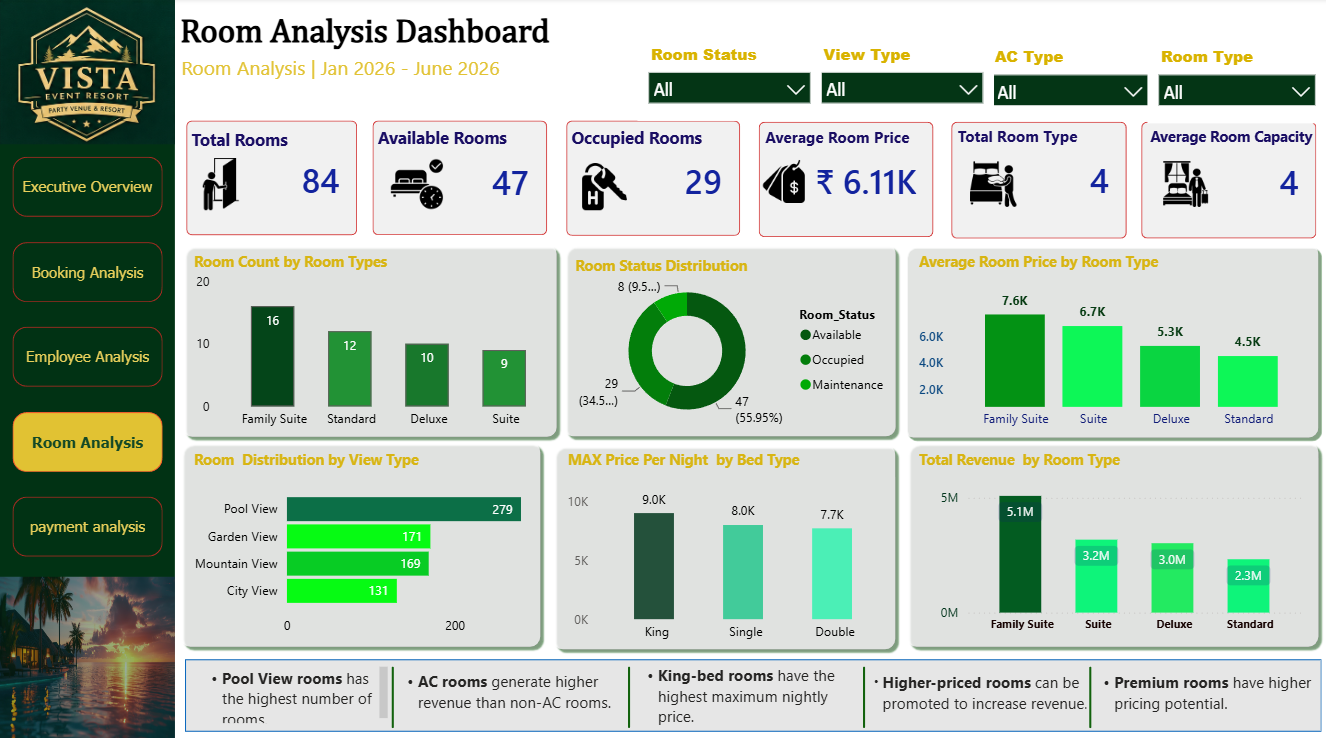

Layout of this report page (visuals, bound fields, positions):
{"tool":"powerbi","page":{"name":"Room Analysis","canvas":[1280,720],"ordinal":3},"visuals":[{"type":"shape","box":[178.6,638.6,1097.1,70],"z":0},{"type":"shape","box":[1101.8,119.1,169.1,112.7],"z":1000},{"type":"shape","box":[0,0,169,720],"z":2000},{"type":"textbox","box":[168.6,11.4,498.6,60],"z":3000},{"type":"shape","box":[169.5,231.4,373.3,198.1],"z":4000},{"type":"shape","box":[180,118.3,165,110.8],"z":5000},{"type":"shape","box":[359.3,118.6,168.6,110.7],"z":6000},{"type":"shape","box":[732.9,119.3,168.6,111.4],"z":7000},{"type":"shape","box":[546.4,118.6,167.9,111.4],"z":8000},{"type":"shape","box":[918.6,119.3,169.3,112.9],"z":9000},{"type":"image","box":[0,1.2,168.8,140],"z":10000},{"type":"image","box":[0,558.6,168.6,161.4],"z":11000},{"type":"textbox","box":[170,49.1,398.2,41.8],"z":12000},{"type":"shape","box":[537.5,231.2,332.5,197.5],"z":13000},{"type":"shape","box":[867.5,232.5,410,196.2],"z":14000},{"type":"shape","box":[167.8,422.2,360,210],"z":15000},{"type":"shape","box":[527.7,424.6,343.1,210],"z":16000},{"type":"shape","box":[868.6,422.9,410,210],"z":17000},{"type":"cardVisual","fields":{"Data":["Count(Room_Dataset.Room_ID)"]},"box":[178.6,118.2,166.5,112.2],"z":18000},{"type":"cardVisual","fields":{"Data":["Room_Dataset.Available Room"]},"box":[358.3,120.6,169.2,110.8],"z":19000},{"type":"cardVisual","fields":{"Data":["Room_Dataset.occupied room"]},"box":[546.2,119.2,167.7,110],"z":20000},{"type":"cardVisual","fields":{"Data":["Avg(Room_Dataset.Price_Per_Night)"]},"box":[733.1,119.2,168.5,110.8],"z":21000},{"type":"cardVisual","fields":{"Data":["Avg(Room_Dataset.Capacity)"]},"box":[1100,119.2,170.8,113.1],"z":22000},{"type":"cardVisual","fields":{"Data":["Count(Room_Dataset.Room_Type)"]},"box":[918.5,120.8,169.2,108.5],"z":23000},{"type":"lineClusteredColumnComboChart","fields":{"Category":["Room_Dataset.Room_Type"],"Y":["Sum(Payment_Dataset.Total Amount)"]},"box":[902,446,361,175],"z":24000},{"type":"barChart","fields":{"Category":["Room_Dataset.View_Type"],"Y":["Booking_Dataset_Fact_Table.booking count"]},"box":[176.7,458.9,358.9,165.6],"z":25000},{"type":"clusteredColumnChart","fields":{"Category":["Room_Dataset.Bed_Type"],"Y":["Max(Room_Dataset.Price_Per_Night)"]},"box":[542.3,459.2,324.6,170],"z":26000},{"type":"columnChart","fields":{"Category":["Room_Dataset.Room_Type"],"Y":["Room_Dataset.Available Room"]},"box":[184.4,259.4,361.7,165],"z":27000},{"type":"donutChart","fields":{"Category":["Room_Dataset.Room_Status"],"Y":["Count(Room_Dataset.Room_ID)"]},"box":[550.1,258.2,317.3,165.3],"z":28000},{"type":"slicer","fields":{"Values":["Room_Dataset.AC_Type"]},"box":[947.5,41.2,171.2,70],"z":29000},{"type":"slicer","fields":{"Values":["Room_Dataset.Room_Type"]},"box":[1107.5,41.2,172.5,80],"z":30000},{"type":"slicer","fields":{"Values":["Room_Dataset.View_Type"]},"box":[781.2,38.8,177.5,80],"z":31000},{"type":"slicer","fields":{"Values":["Room_Dataset.Room_Status"]},"box":[615,38.8,177.5,80],"z":32000},{"type":"textbox","box":[179.8,120.6,153.2,41],"z":33000},{"type":"textbox","box":[360,118.5,153.1,40.8],"z":34000},{"type":"textbox","box":[546.2,118.5,153.1,40.8],"z":35000},{"type":"textbox","box":[733.1,119.2,168.5,40.8],"z":36000},{"type":"textbox","box":[1105.6,120,173.3,41.1],"z":37000},{"type":"textbox","box":[919.2,118.5,168.5,40.8],"z":38000},{"type":"textbox","box":[182.5,240,235.6,30],"z":39000},{"type":"textbox","box":[550,243.1,218.8,30],"z":40000},{"type":"textbox","box":[882.5,240,261.2,30],"z":41000},{"type":"textbox","box":[182.2,431.1,277.8,30],"z":42000},{"type":"textbox","box":[543.3,431.1,277.8,30],"z":43000},{"type":"textbox","box":[882.2,431.1,277.8,30],"z":44000},{"type":"columnChart","fields":{"Category":["Room_Dataset.Room_Type"],"Y":["Avg(Room_Dataset.Price_Per_Night)"]},"box":[882.5,270,388.8,148.8],"z":45000},{"type":"shape","box":[359.2,645,39.2,59.2],"z":46000},{"type":"shape","box":[587.5,645,39.2,59.2],"z":47000},{"type":"shape","box":[814.2,645,39.2,59.2],"z":48000},{"type":"shape","box":[1032.5,645,39.2,59.2],"z":49000},{"type":"textbox","box":[186.7,641.1,192.2,64.4],"z":50000},{"type":"textbox","box":[376.2,643.8,231.2,63.8],"z":51000},{"type":"textbox","box":[608,638.2,230.4,70],"z":52000},{"type":"textbox","box":[828.8,645,231.2,63.8],"z":53000},{"type":"textbox","box":[1048.8,645,222.5,63.8],"z":54000},{"type":"image","box":[558.6,159.3,49.5,45.8],"z":55000},{"type":"image","box":[376.4,154.4,51.9,50.7],"z":56000},{"type":"image","box":[187,154.4,51.9,50.7],"z":57000},{"type":"image","box":[732.3,154.4,49.5,45.8],"z":58000},{"type":"image","box":[933.8,156.8,49.5,45.8],"z":59000},{"type":"image","box":[1119.6,156.8,49.5,45.8],"z":60000},{"type":"pageNavigator","box":[12.1,153.2,145.7,387.1],"z":61000}]}

Visuals, with their boxes in screenshot pixels (x1, y1, x2, y2), scaled from the page's 1280x720 canvas onto the 1326x738 screenshot:
shape: <region>185, 655, 1322, 726</region>
shape: <region>1141, 122, 1317, 238</region>
shape: <region>0, 0, 175, 737</region>
textbox: <region>175, 12, 691, 73</region>
shape: <region>176, 237, 562, 440</region>
shape: <region>186, 121, 357, 235</region>
shape: <region>372, 122, 547, 235</region>
shape: <region>759, 122, 934, 236</region>
shape: <region>566, 122, 740, 236</region>
shape: <region>952, 122, 1127, 238</region>
image: <region>0, 1, 175, 145</region>
image: <region>0, 573, 175, 737</region>
textbox: <region>176, 50, 589, 93</region>
shape: <region>557, 237, 901, 439</region>
shape: <region>899, 238, 1323, 439</region>
shape: <region>174, 433, 547, 648</region>
shape: <region>547, 435, 902, 650</region>
shape: <region>900, 433, 1325, 649</region>
cardVisual - Count(Room_Dataset.Room_ID): <region>185, 121, 358, 236</region>
cardVisual - Room_Dataset.Available Room: <region>371, 124, 546, 237</region>
cardVisual - Room_Dataset.occupied room: <region>566, 122, 740, 235</region>
cardVisual - Avg(Room_Dataset.Price_Per_Night): <region>759, 122, 934, 236</region>
cardVisual - Avg(Room_Dataset.Capacity): <region>1140, 122, 1316, 238</region>
cardVisual - Count(Room_Dataset.Room_Type): <region>952, 124, 1127, 235</region>
lineClusteredColumnComboChart - Room_Dataset.Room_Type x Sum(Payment_Dataset.Total Amount): <region>934, 457, 1308, 637</region>
barChart - Room_Dataset.View_Type x Booking_Dataset_Fact_Table.booking count: <region>183, 470, 555, 640</region>
clusteredColumnChart - Room_Dataset.Bed_Type x Max(Room_Dataset.Price_Per_Night): <region>562, 471, 898, 645</region>
columnChart - Room_Dataset.Room_Type x Room_Dataset.Available Room: <region>191, 266, 566, 435</region>
donutChart - Room_Dataset.Room_Status x Count(Room_Dataset.Room_ID): <region>570, 265, 899, 434</region>
slicer - Room_Dataset.AC_Type: <region>982, 42, 1159, 114</region>
slicer - Room_Dataset.Room_Type: <region>1147, 42, 1325, 124</region>
slicer - Room_Dataset.View_Type: <region>809, 40, 993, 122</region>
slicer - Room_Dataset.Room_Status: <region>637, 40, 821, 122</region>
textbox: <region>186, 124, 345, 166</region>
textbox: <region>373, 121, 532, 163</region>
textbox: <region>566, 121, 724, 163</region>
textbox: <region>759, 122, 934, 164</region>
textbox: <region>1145, 123, 1325, 165</region>
textbox: <region>952, 121, 1127, 163</region>
textbox: <region>189, 246, 433, 277</region>
textbox: <region>570, 249, 796, 280</region>
textbox: <region>914, 246, 1185, 277</region>
textbox: <region>189, 442, 477, 473</region>
textbox: <region>563, 442, 851, 473</region>
textbox: <region>914, 442, 1202, 473</region>
columnChart - Room_Dataset.Room_Type x Avg(Room_Dataset.Price_Per_Night): <region>914, 277, 1317, 429</region>
shape: <region>372, 661, 413, 722</region>
shape: <region>609, 661, 649, 722</region>
shape: <region>843, 661, 884, 722</region>
shape: <region>1070, 661, 1110, 722</region>
textbox: <region>193, 657, 393, 723</region>
textbox: <region>390, 660, 629, 725</region>
textbox: <region>630, 654, 869, 726</region>
textbox: <region>859, 661, 1098, 727</region>
textbox: <region>1086, 661, 1317, 727</region>
image: <region>579, 163, 630, 210</region>
image: <region>390, 158, 444, 210</region>
image: <region>194, 158, 247, 210</region>
image: <region>759, 158, 810, 205</region>
image: <region>967, 161, 1019, 208</region>
image: <region>1160, 161, 1211, 208</region>
pageNavigator: <region>13, 157, 163, 554</region>
